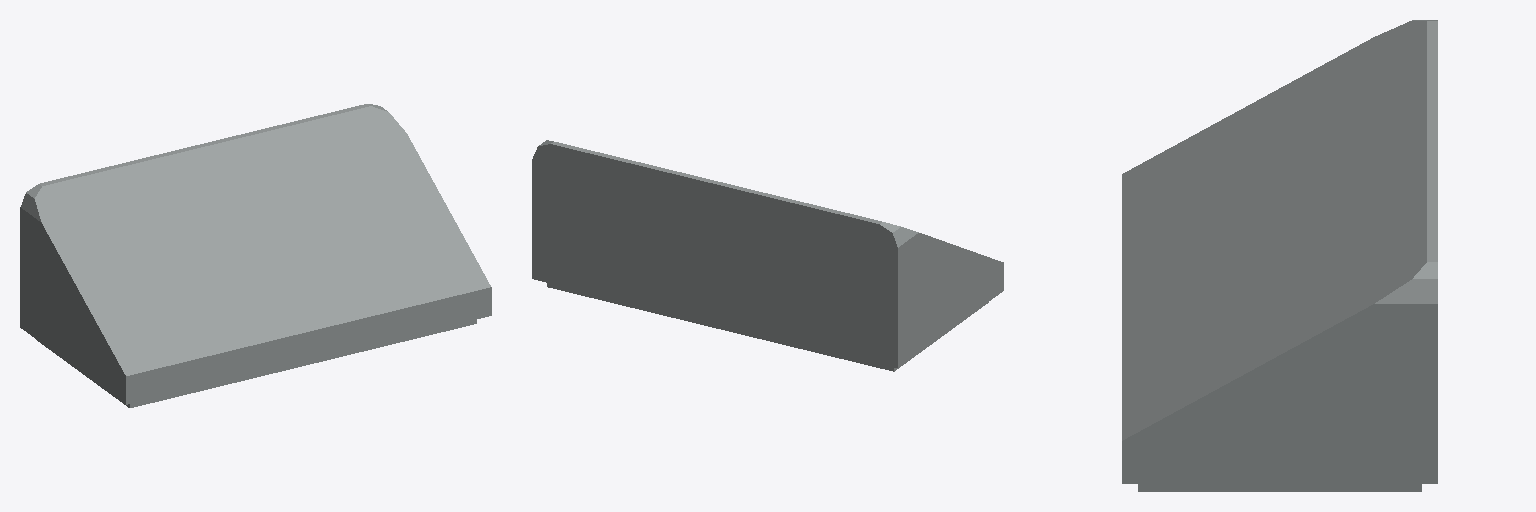
robot.urdf — 85984__light_bluish_gray:
<?xml version="1.0"?>
<robot name="85984__light_bluish_gray">
  <link name="85984__light_bluish_gray">
    <inertial>
      <origin xyz="0.000000 0.000803 0.002251" rpy="0 0 0"/>
      <mass value="0.000533"/>
      <inertia ixx="3.644207061e-09" ixy="-5.654554969e-26" ixz="-3.392732981e-25" iyy="1.248612361e-08" iyz="-7.431976619e-10" izz="1.378015576e-08"/>
    </inertial>
    <visual>
      <geometry>
        <mesh filename="../meshes/visual/85984.obj" scale="1 1 1"/>
      </geometry>
      <material name="85984__light_bluish_gray_color">
        <color rgba="0.630 0.650 0.650 1.000"/>
      </material>
    </visual>
    <collision>
      <geometry>
        <mesh filename="../meshes/collision/85984_hull.obj" scale="1 1 1"/>
      </geometry>
    </collision>
  </link>
</robot>

--- What the picture shows (computed from the rendered views, not written in the file) ---
3 views of the same robot in one strip: view 1: azimuth 30°, elevation 25°; view 2: azimuth 150°, elevation 25°; view 3: azimuth 270°, elevation 25° (orthographic).
Robot: 85984__light_bluish_gray — 1 links, 0 joints (none); root link 85984__light_bluish_gray; default pose: all joints at 0.
Visible links, largest first — view 1: 85984__light_bluish_gray; view 2: 85984__light_bluish_gray; view 3: 85984__light_bluish_gray.
Boxes of the visible links, x1,y1,x2,y2 form: 85984__light_bluish_gray: [20, 104, 491, 407]; 85984__light_bluish_gray: [532, 140, 1003, 371]; 85984__light_bluish_gray: [1122, 20, 1437, 491].
Bounding box of the posed robot: 0.016 × 0.008 × 0.0062 m (x, y, z).
1 mesh visuals loaded from 1 distinct referenced files (1 OBJ).
